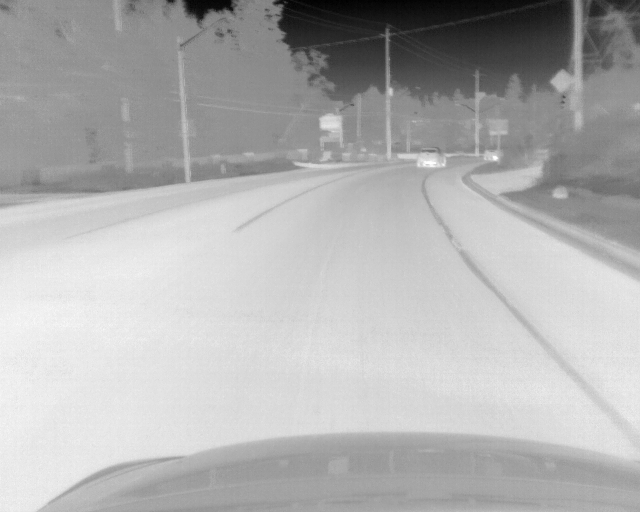car: (417, 146, 446, 169), (483, 149, 499, 161)
